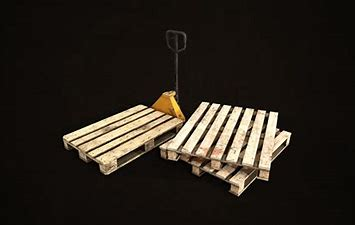Pallet Jack: (61, 30, 186, 175)
